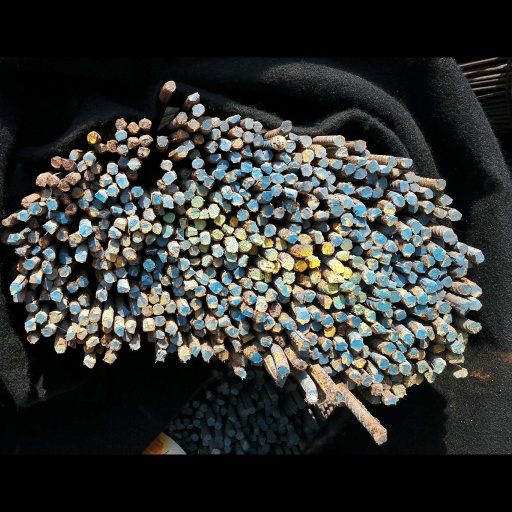dipstick: (269, 301, 283, 318), (247, 267, 264, 280), (353, 138, 367, 153), (372, 231, 385, 247), (92, 226, 106, 240), (367, 207, 381, 221), (358, 322, 372, 336), (170, 330, 183, 345), (231, 191, 244, 206), (332, 294, 345, 309), (362, 269, 375, 284), (327, 272, 344, 283), (139, 134, 153, 147), (68, 233, 81, 247), (257, 176, 270, 190), (248, 350, 262, 363), (284, 319, 298, 332), (302, 149, 315, 163), (352, 229, 366, 242), (301, 275, 315, 288), (392, 384, 406, 397), (27, 203, 42, 215), (259, 259, 274, 271), (307, 194, 319, 209), (179, 345, 190, 361), (117, 175, 130, 188), (99, 173, 112, 186), (43, 221, 56, 234), (142, 318, 155, 331), (274, 334, 287, 347), (265, 289, 278, 302), (335, 146, 348, 159), (359, 186, 372, 199), (127, 158, 141, 170), (56, 228, 68, 242), (57, 265, 71, 277), (39, 289, 51, 303), (41, 325, 55, 337), (185, 207, 199, 219), (234, 228, 248, 240), (210, 280, 222, 294), (284, 188, 298, 200), (381, 343, 395, 355), (375, 430, 387, 444), (208, 204, 219, 219), (221, 185, 232, 200), (285, 201, 300, 212), (372, 323, 387, 334), (374, 300, 390, 310), (117, 156, 130, 168), (116, 144, 129, 156), (106, 162, 118, 175), (94, 189, 107, 201), (128, 217, 140, 230), (114, 218, 126, 231), (82, 188, 94, 201), (61, 157, 73, 170), (91, 247, 104, 259), (164, 323, 176, 336), (157, 134, 169, 147), (163, 172, 176, 184), (242, 145, 254, 158), (161, 196, 174, 208), (239, 187, 251, 200), (226, 239, 238, 252), (251, 233, 264, 245), (256, 300, 268, 313), (279, 284, 292, 296), (283, 271, 295, 284), (299, 135, 312, 147), (343, 163, 356, 175), (261, 204, 273, 217), (353, 215, 366, 227), (296, 311, 309, 323), (331, 391, 343, 404), (399, 362, 411, 375), (402, 244, 414, 257), (385, 240, 398, 252), (467, 321, 480, 333), (7, 233, 21, 244), (153, 302, 164, 316), (270, 173, 284, 184), (284, 174, 298, 185), (174, 226, 185, 240), (193, 219, 207, 230), (183, 280, 197, 291), (224, 258, 238, 269), (232, 310, 246, 321), (239, 321, 250, 335), (273, 161, 287, 172), (260, 190, 274, 201), (339, 214, 353, 225), (355, 203, 366, 217), (331, 359, 345, 370), (323, 364, 337, 375), (348, 316, 362, 327), (393, 275, 407, 286), (295, 288, 305, 303), (384, 396, 399, 406), (449, 353, 464, 363), (164, 80, 176, 92), (115, 118, 127, 130), (139, 221, 151, 233), (50, 156, 62, 168), (56, 211, 68, 223), (20, 197, 32, 209), (43, 248, 55, 260), (79, 225, 91, 237), (91, 258, 103, 270), (124, 248, 136, 260), (35, 312, 47, 324), (66, 281, 78, 293), (128, 337, 140, 349), (95, 290, 107, 302), (192, 104, 204, 116), (187, 118, 199, 130), (160, 159, 172, 171), (229, 151, 241, 163), (240, 161, 252, 173), (261, 162, 273, 174), (173, 192, 185, 204), (211, 191, 223, 203), (144, 233, 156, 245), (239, 240, 251, 252), (234, 266, 246, 278), (256, 281, 268, 293), (228, 326, 240, 338), (281, 120, 293, 132), (401, 158, 413, 170), (358, 224, 370, 236), (300, 244, 312, 256), (282, 256, 294, 268), (330, 234, 342, 246), (341, 238, 353, 250), (322, 316, 334, 328), (298, 321, 310, 333), (324, 326, 336, 338), (352, 303, 364, 315), (394, 194, 406, 206), (441, 230, 453, 242), (389, 290, 401, 302), (414, 305, 426, 317), (436, 323, 448, 335), (119, 190, 132, 201), (142, 209, 155, 220), (108, 228, 121, 239), (66, 173, 79, 184), (47, 175, 58, 188), (59, 193, 72, 204), (59, 253, 72, 264), (13, 247, 26, 258), (101, 314, 112, 327), (100, 279, 113, 290), (104, 272, 117, 283), (165, 302, 176, 315), (243, 117, 254, 130), (219, 138, 230, 151), (263, 149, 274, 162), (252, 167, 263, 180), (241, 177, 254, 188), (184, 180, 197, 191), (221, 199, 232, 212), (162, 225, 173, 238), (168, 244, 179, 257), (199, 231, 210, 244), (221, 272, 232, 285), (241, 276, 252, 289), (272, 137, 285, 148), (300, 163, 311, 176), (354, 168, 367, 179), (368, 160, 379, 173), (300, 181, 313, 192), (247, 199, 258, 212), (340, 197, 353, 208), (343, 182, 354, 195), (264, 224, 277, 235), (366, 259, 379, 270), (305, 392, 318, 403), (341, 353, 352, 366), (352, 339, 363, 352), (402, 333, 415, 344), (439, 194, 452, 205), (383, 203, 396, 214), (420, 228, 431, 241), (433, 247, 444, 260), (452, 342, 465, 353), (128, 121, 138, 135), (24, 303, 38, 313), (24, 321, 38, 331), (54, 300, 68, 310), (160, 292, 170, 306), (204, 174, 214, 188), (165, 184, 179, 194), (330, 205, 344, 215), (336, 251, 350, 261), (322, 295, 332, 309), (341, 281, 355, 291), (139, 118, 150, 130), (106, 140, 117, 152), (86, 131, 97, 143), (83, 154, 94, 166), (126, 168, 138, 179), (138, 197, 150, 208), (58, 179, 69, 191), (64, 203, 76, 214), (17, 210, 29, 221), (27, 232, 38, 244), (89, 239, 100, 251), (105, 250, 116, 262), (132, 230, 144, 241), (74, 251, 86, 262), (41, 263, 53, 274), (50, 290, 62, 301), (78, 295, 90, 306), (87, 336, 99, 347), (83, 357, 95, 368), (129, 304, 141, 315), (151, 282, 162, 294), (143, 259, 154, 271), (178, 304, 189, 316), (229, 114, 241, 125), (231, 126, 243, 137), (194, 169, 206, 180), (174, 204, 186, 215), (177, 258, 189, 269), (171, 276, 183, 287), (197, 273, 208, 285), (211, 245, 223, 256), (237, 209, 248, 221), (207, 296, 218, 308), (245, 292, 256, 304), (206, 318, 217, 330), (217, 349, 229, 360), (231, 339, 242, 351), (264, 318, 275, 330), (238, 355, 249, 367), (278, 364, 289, 376), (285, 140, 296, 152), (292, 151, 303, 163), (316, 168, 328, 179), (333, 135, 345, 146), (271, 185, 283, 196), (273, 206, 284, 218), (291, 211, 302, 223), (300, 207, 312, 218), (373, 187, 384, 199), (285, 231, 297, 242), (289, 223, 301, 234), (295, 259, 306, 271), (322, 243, 334, 254), (340, 225, 351, 237), (350, 272, 361, 284), (311, 310, 323, 321), (349, 371, 360, 383), (365, 311, 376, 323), (398, 180, 409, 192), (401, 228, 412, 240), (459, 284, 471, 295), (424, 255, 435, 267), (377, 275, 389, 286), (378, 288, 390, 299), (438, 303, 450, 314), (416, 329, 428, 340), (432, 361, 443, 373), (115, 130, 128, 140), (94, 143, 107, 153), (131, 187, 144, 197), (29, 274, 42, 284), (48, 312, 61, 322), (156, 338, 169, 348), (155, 349, 165, 362), (190, 344, 200, 357), (157, 249, 167, 262), (177, 111, 187, 124), (208, 140, 218, 153), (243, 131, 253, 144), (162, 213, 175, 223), (191, 196, 204, 206), (206, 265, 216, 278), (261, 238, 274, 248), (238, 254, 248, 267), (254, 342, 267, 352), (360, 147, 370, 160), (377, 176, 387, 189), (316, 221, 329, 231), (275, 240, 288, 250), (371, 245, 381, 258), (334, 312, 347, 322), (352, 359, 365, 369), (391, 373, 404, 383), (393, 352, 406, 362), (474, 251, 484, 264), (425, 369, 435, 382), (315, 210, 329, 219), (453, 369, 467, 378), (89, 162, 100, 173), (87, 206, 98, 217), (78, 197, 89, 208), (35, 175, 46, 186), (27, 217, 38, 228), (115, 256, 126, 267), (16, 263, 27, 274), (55, 275, 66, 286), (77, 328, 88, 339), (86, 323, 97, 334), (99, 334, 110, 345), (109, 340, 120, 351), (142, 274, 153, 285), (177, 128, 188, 139), (231, 138, 242, 149), (225, 171, 236, 182), (197, 184, 208, 195), (151, 193, 162, 204), (156, 236, 167, 247), (195, 286, 206, 297), (190, 299, 201, 310), (212, 229, 223, 240), (249, 222, 260, 233), (213, 305, 224, 316), (203, 350, 214, 361), (279, 293, 290, 304), (288, 131, 299, 142), (280, 151, 291, 162), (315, 146, 326, 157), (331, 159, 342, 170), (311, 176, 322, 187), (333, 262, 344, 273), (310, 272, 321, 283), (304, 291, 315, 302), (345, 294, 356, 305), (395, 310, 406, 321), (396, 341, 407, 352), (371, 384, 382, 395), (441, 276, 452, 287), (417, 294, 428, 305), (425, 281, 436, 292), (427, 293, 438, 304), (427, 308, 438, 319), (446, 330, 457, 341), (457, 333, 468, 344), (413, 373, 424, 384), (127, 137, 139, 147), (107, 185, 119, 195), (124, 203, 136, 213), (40, 188, 50, 200), (2, 216, 14, 226), (130, 240, 142, 250), (22, 259, 34, 269), (42, 278, 52, 290), (26, 334, 38, 344), (55, 341, 65, 353), (126, 321, 136, 333), (117, 283, 129, 293), (141, 306, 153, 316), (153, 329, 165, 339), (188, 148, 200, 158), (183, 190, 195, 200), (178, 216, 188, 228), (186, 226, 198, 236), (179, 240, 191, 250), (173, 286, 185, 296), (202, 255, 212, 267), (225, 251, 237, 261), (242, 307, 254, 317), (216, 332, 226, 344), (255, 312, 267, 322), (260, 336, 272, 346), (317, 157, 329, 167), (367, 173, 377, 185), (325, 182, 337, 192), (318, 187, 328, 199), (256, 215, 268, 225), (314, 231, 324, 243), (309, 258, 321, 268), (310, 321, 322, 331), (307, 333, 317, 345), (321, 339, 331, 351), (424, 188, 436, 198), (435, 208, 447, 218), (450, 209, 460, 221), (411, 221, 421, 233), (415, 246, 427, 256), (406, 296, 416, 308), (408, 347, 418, 359), (417, 362, 429, 372), (88, 181, 101, 190), (110, 205, 123, 214), (9, 283, 22, 292), (254, 134, 263, 147), (191, 159, 204, 168), (217, 160, 230, 169), (228, 296, 241, 305), (192, 320, 205, 329), (194, 328, 207, 337), (265, 250, 278, 259), (337, 323, 346, 336), (384, 226, 397, 235), (97, 210, 111, 218), (82, 345, 96, 353), (351, 257, 365, 265), (436, 336, 450, 344), (138, 146, 148, 157), (68, 149, 78, 160), (98, 219, 109, 229), (71, 187, 82, 197), (101, 259, 112, 269), (24, 292, 34, 303), (77, 277, 88, 287), (90, 311, 100, 322), (127, 266, 138, 276), (129, 287, 140, 297), (137, 296, 148, 306), (148, 293, 159, 303), (155, 316, 165, 327), (138, 281, 148, 292), (160, 275, 171, 285), (211, 117, 221, 128), (177, 145, 188, 155), (213, 169, 224, 179), (230, 180, 240, 191), (198, 208, 209, 218), (198, 242, 209, 252), (189, 257, 200, 267), (169, 267, 180, 277), (184, 268, 194, 279), (222, 224, 233, 234), (214, 215, 224, 226), (218, 286, 228, 297), (231, 285, 242, 295), (252, 322, 263, 332), (236, 367, 246, 378), (355, 157, 366, 167), (318, 354, 329, 364), (382, 317, 392, 328), (389, 331, 399, 342), (372, 372, 382, 383), (381, 379, 392, 389), (387, 364, 398, 374), (405, 171, 415, 182), (406, 194, 417, 204), (470, 300, 481, 310), (428, 269, 439, 279), (381, 265, 392, 275), (443, 313, 453, 324), (69, 304, 81, 313), (80, 314, 89, 326), (117, 307, 129, 316), (256, 149, 265, 161), (152, 223, 161, 235), (242, 334, 254, 343), (388, 155, 397, 167), (328, 198, 340, 207), (437, 178, 446, 190), (407, 203, 419, 212), (382, 252, 391, 264), (209, 154, 222, 162), (233, 169, 246, 177), (219, 318, 232, 326), (276, 374, 284, 387), (343, 266, 351, 279), (360, 241, 373, 249), (432, 344, 445, 352), (84, 170, 94, 180), (51, 187, 61, 197), (47, 199, 57, 209), (108, 244, 118, 254), (13, 294, 23, 304), (66, 330, 76, 340), (122, 331, 132, 341), (117, 267, 127, 277), (167, 343, 177, 353), (176, 315, 186, 325), (194, 134, 204, 144), (155, 205, 165, 215), (212, 257, 222, 267), (248, 245, 258, 255), (353, 245, 363, 255), (300, 340, 310, 350), (362, 376, 372, 386), (371, 395, 381, 405), (410, 182, 420, 192), (424, 203, 434, 213), (412, 235, 422, 245), (442, 257, 452, 267), (120, 237, 131, 246), (179, 322, 190, 331), (153, 269, 162, 280), (188, 93, 199, 102), (202, 119, 211, 130), (219, 120, 228, 131), (212, 129, 221, 140), (253, 121, 262, 132), (180, 169, 191, 178), (274, 323, 283, 334), (326, 171, 335, 182), (299, 234, 310, 243), (327, 283, 338, 292), (352, 285, 361, 296), (357, 291, 366, 302), (378, 359, 389, 368), (457, 266, 468, 275), (415, 263, 426, 272), (391, 251, 400, 262), (404, 376, 413, 387), (294, 362, 308, 369), (1, 233, 9, 245), (102, 325, 114, 333), (103, 355, 115, 363), (145, 247, 157, 255), (155, 259, 163, 271), (273, 262, 281, 274), (379, 166, 391, 174), (299, 350, 311, 358), (386, 217, 398, 225), (456, 253, 464, 265), (427, 329, 435, 341), (221, 297, 228, 310), (335, 342, 348, 349), (77, 161, 86, 171), (93, 199, 103, 208), (80, 179, 89, 189), (38, 238, 47, 248), (30, 246, 40, 255), (70, 313, 79, 323), (58, 323, 67, 333), (185, 139, 194, 149), (189, 236, 199, 245), (189, 246, 199, 255), (168, 255, 178, 264), (186, 290, 195, 300), (392, 167, 402, 176), (328, 347, 337, 357), (346, 379, 355, 389), (383, 308, 393, 317), (420, 213, 429, 223), (449, 235, 458, 245), (472, 286, 481, 296), (403, 262, 412, 272), (409, 273, 418, 283), (460, 302, 469, 312), (420, 338, 429, 348), (49, 269, 57, 280), (230, 216, 238, 227), (264, 272, 272, 283), (300, 220, 311, 228), (311, 348, 319, 359), (361, 347, 369, 358), (435, 279, 443, 290), (437, 290, 445, 301), (459, 244, 468, 253), (463, 258, 472, 267), (107, 196, 115, 206), (45, 210, 55, 218), (76, 337, 86, 345), (194, 310, 204, 318), (290, 161, 300, 169), (358, 263, 368, 271), (387, 282, 397, 290), (213, 345, 224, 352), (440, 267, 448, 276), (417, 349, 425, 358), (97, 344, 104, 354), (116, 326, 123, 336), (128, 258, 138, 265), (333, 222, 340, 231), (30, 282, 37, 290)
